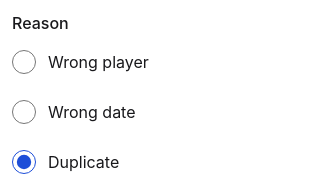
Test: RadioGroup › picks a choice from a tap on its words, and starts from the stored one
This screenshot has width=332, height=191.
Check: the radio button labelled "Duplicate" is checked, box [12,150,36,174]
Click the text "Wrong date". click: (92, 112)
box: [48,101,136,123]
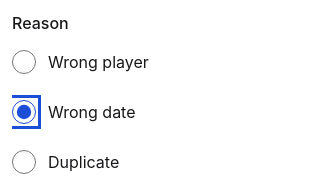
Check: the radio button labelled "Wrong date" is checked, box [12,100,36,124]
Check: the radio button labelled "Duplicate" is not checked, box [12,150,36,174]
